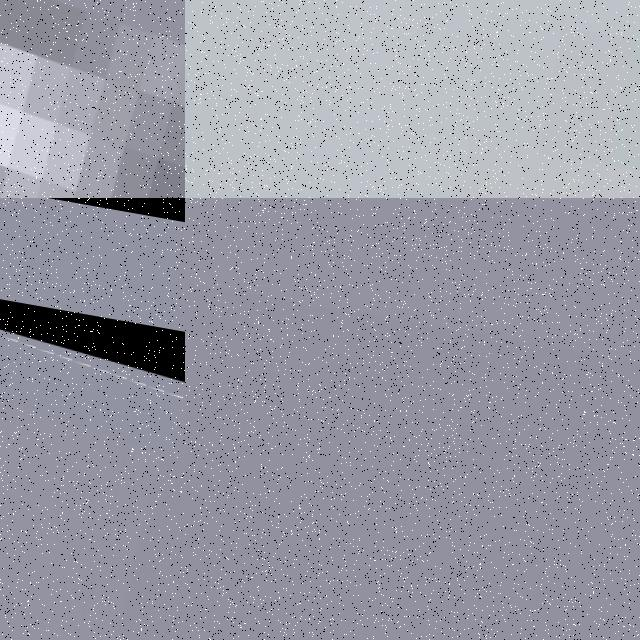drone: (0, 249, 185, 640), (0, 0, 185, 198)
